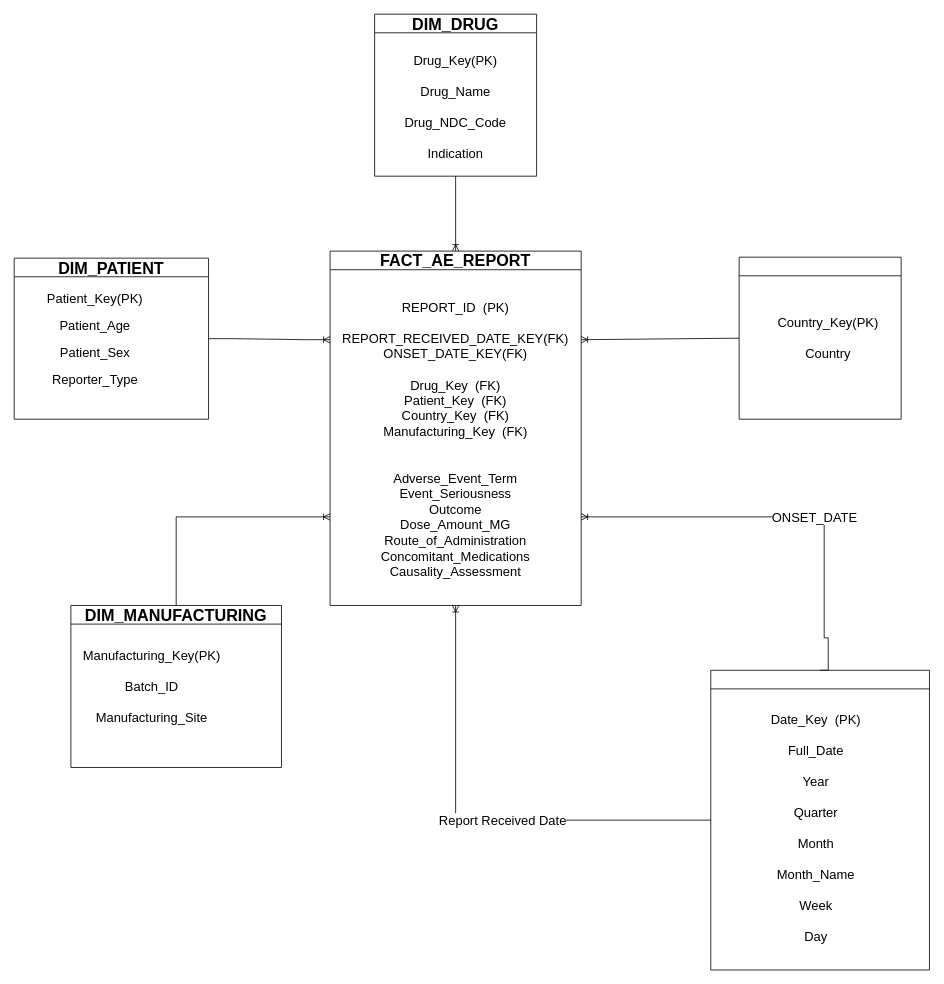
Some shapes in this 944 by 984 pixel diagram are drawn without their labels. The shapes that lost their labels are listed below. From the top down, each one's box as (x1, y1, x2, y2) in pixels, then its label:
(738, 256, 901, 419): DIM_COUNTRY
(710, 669, 929, 970): DIM_DATE
